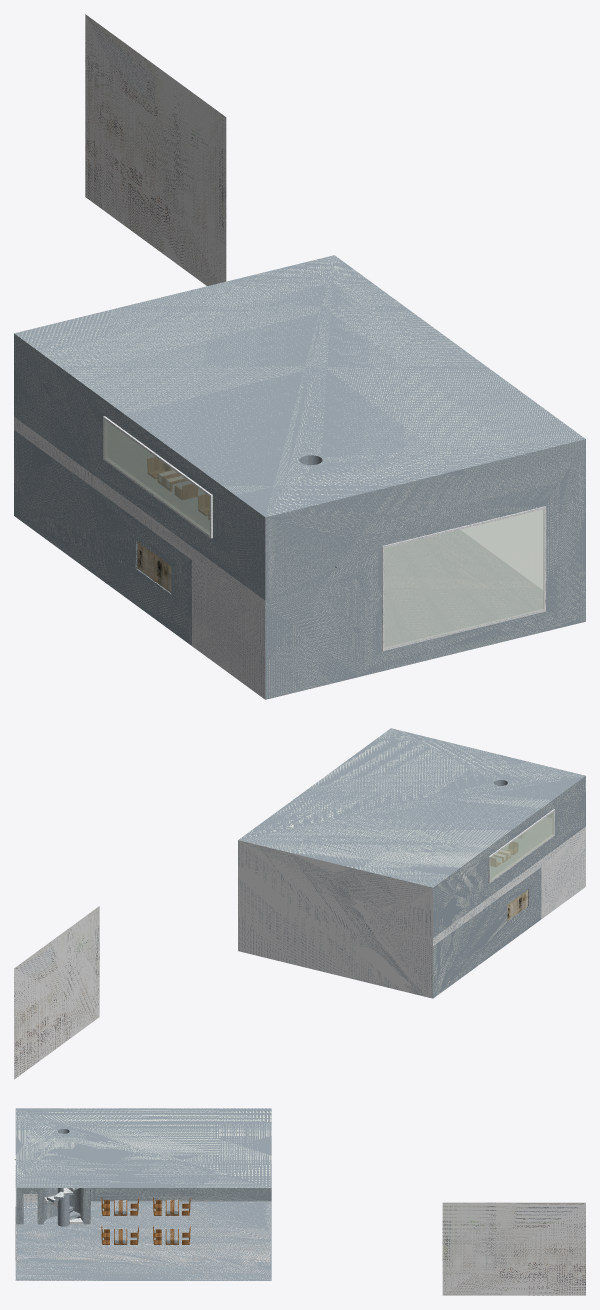
File: japanese+restaurant.fbx
3 renders of one model, top to bottom at view 1: azimuth 30°, elevation 25°; view 2: azimuth 150°, elevation 25°; view 3: azimuth 270°, elevation 25°, orthographic. The views are drawn at different scales.
Parts seen in each view (by area): view 1: Model, Group27, Group23, Group25, Group26; view 2: Model, Group27; view 3: Model, Group27, Group24.
Part boxes in pixels (left/top/right/bottom): Model: left=14, top=255, right=585, bottom=699; Group27: left=85, top=14, right=226, bottom=285; Group23: left=382, top=506, right=545, bottom=651; Group25: left=147, top=457, right=209, bottom=519; Group26: left=136, top=541, right=171, bottom=593; Model: left=238, top=728, right=585, bottom=998; Group27: left=14, top=906, right=99, bottom=1079; Model: left=15, top=1108, right=271, bottom=1280; Group27: left=442, top=1202, right=585, bottom=1295; Group24: left=101, top=1197, right=190, bottom=1244.
Bounding box in the file's own units: 14404 × 6652 × 36704.
